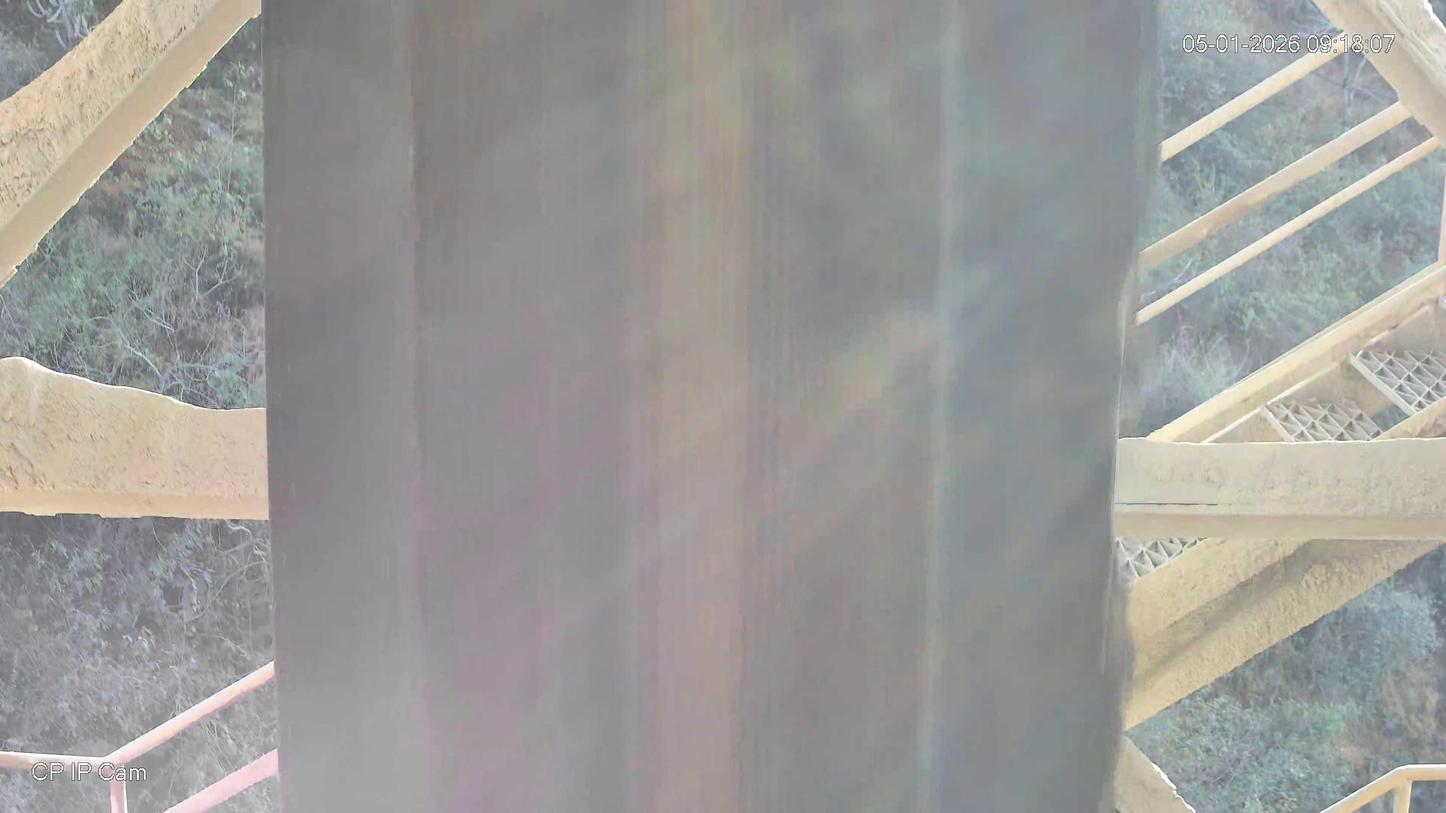belt_roi: (265, 0, 1158, 813)
